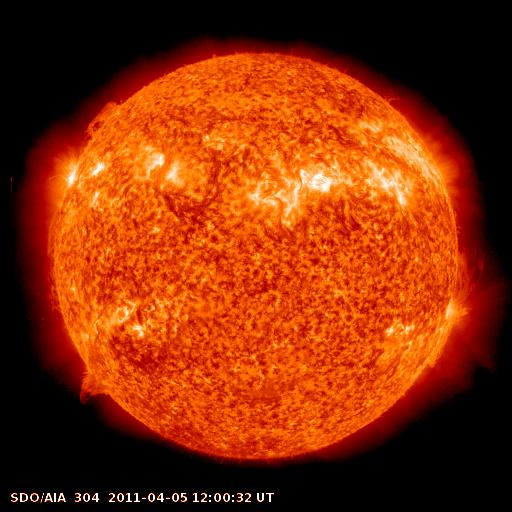prominence: (35, 210, 72, 320), (442, 245, 489, 307), (80, 92, 129, 146), (72, 361, 118, 410), (372, 74, 413, 116)
